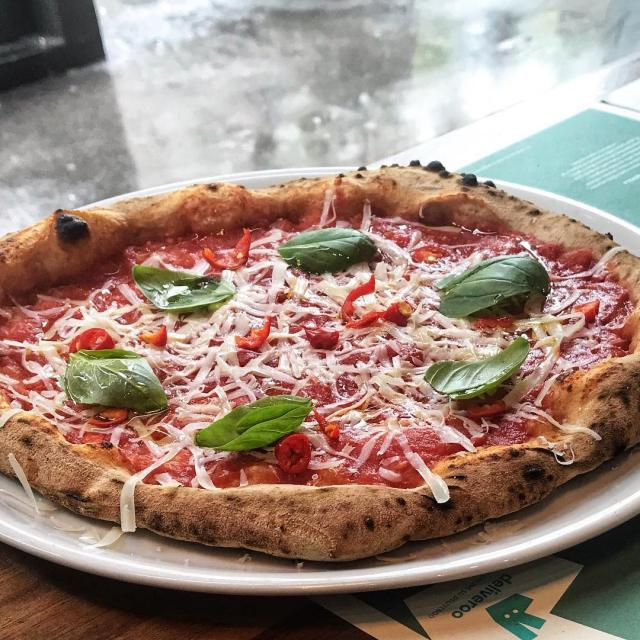basil: (430, 253, 553, 320), (421, 334, 535, 404), (193, 392, 315, 455), (60, 347, 172, 413), (130, 262, 238, 315), (276, 226, 379, 275)
pizza: (0, 165, 640, 567)
